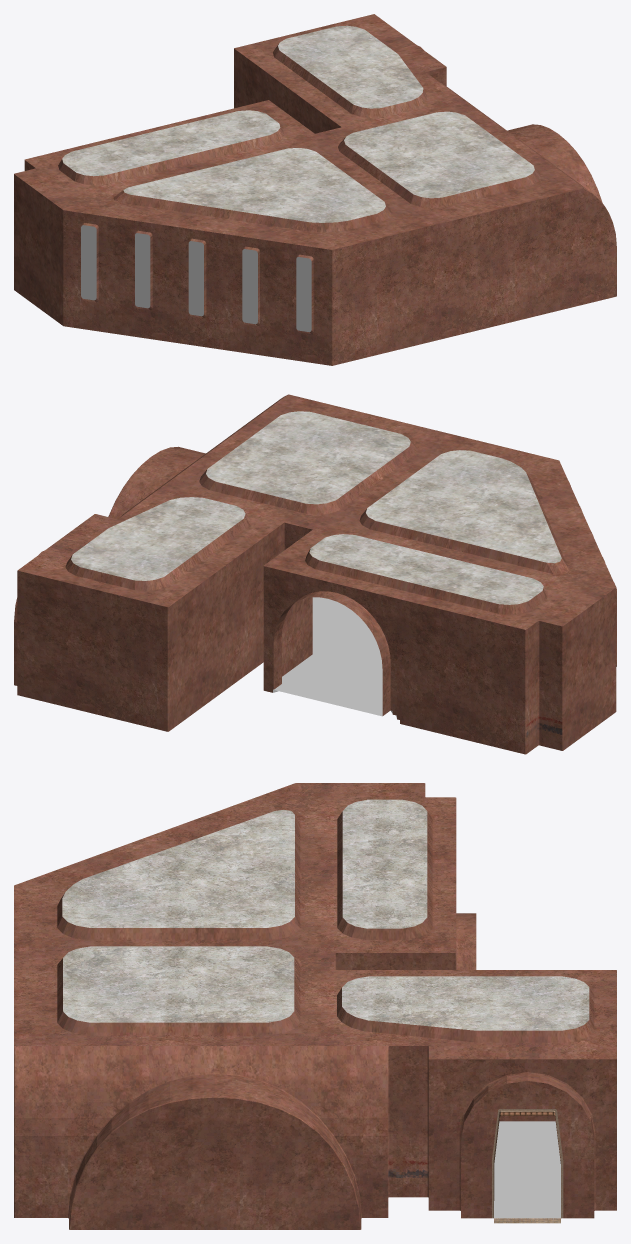
The model's file is thm_nboo_cantina_r12_private_room_mesh_r16.fbx.
3 renders of one model, top to bottom at view 1: azimuth 30°, elevation 25°; view 2: azimuth 150°, elevation 25°; view 3: azimuth 270°, elevation 25°, orthographic. The views are drawn at different scales.
Parts seen in each view (by area): view 1: mesh_node; view 2: mesh_node; view 3: mesh_node.
Part boxes in pixels (x1,y1,x2,y2): mesh_node: (14,14,616,365); mesh_node: (14,394,616,754); mesh_node: (14,783,616,1229).
Size of the model in its own units: 17.39 by 4.41 by 15.
